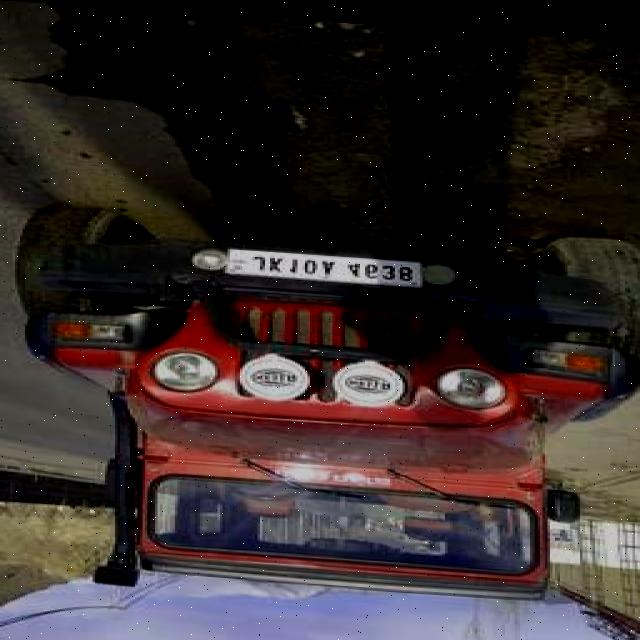plate: (228, 244, 424, 285)
